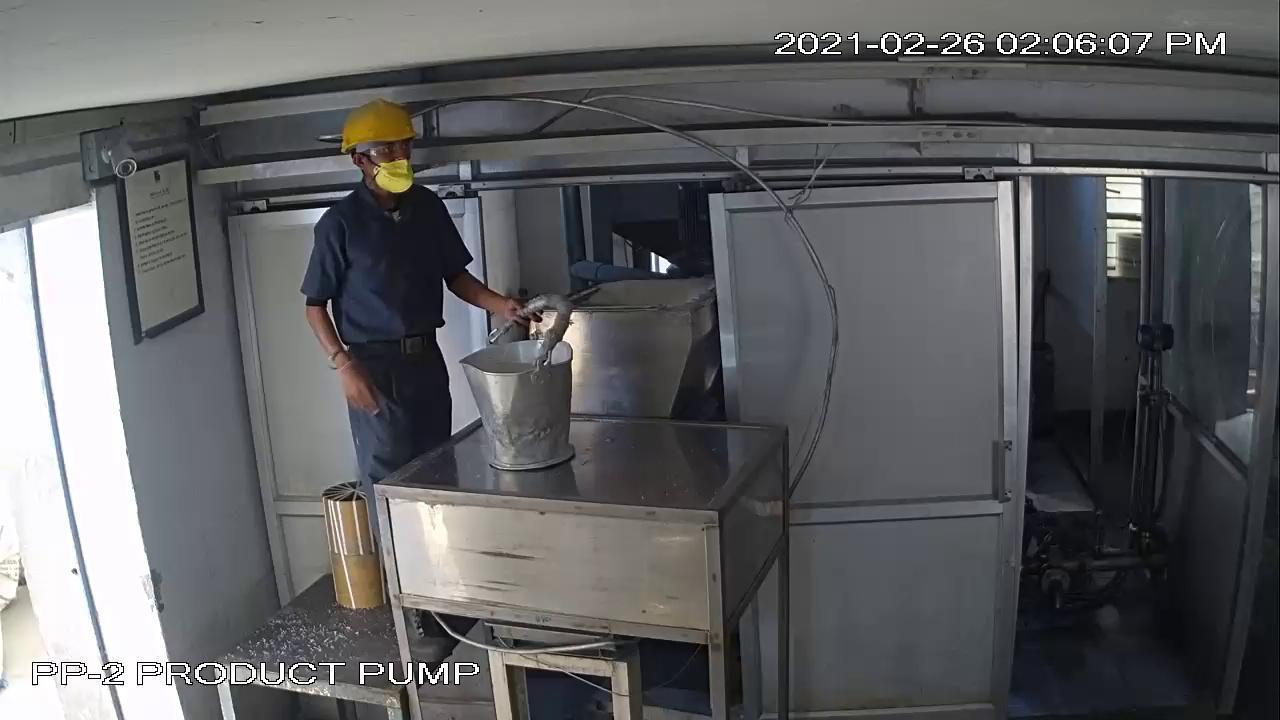helmet: (324, 98, 426, 160)
